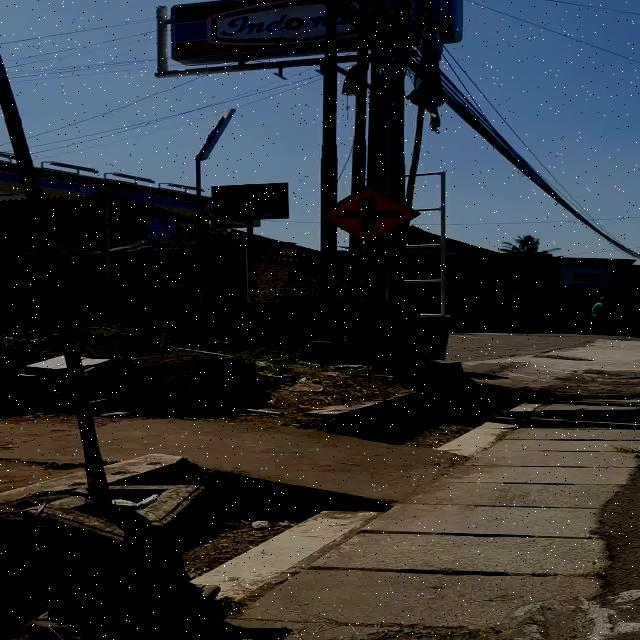Persimpangan 4: (321, 186, 420, 243)
